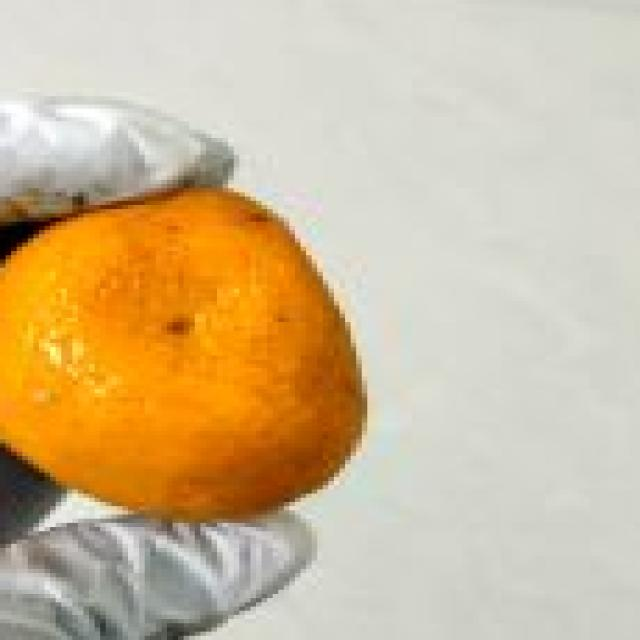Bad_Orange-0-1 day: (0, 188, 373, 527)
